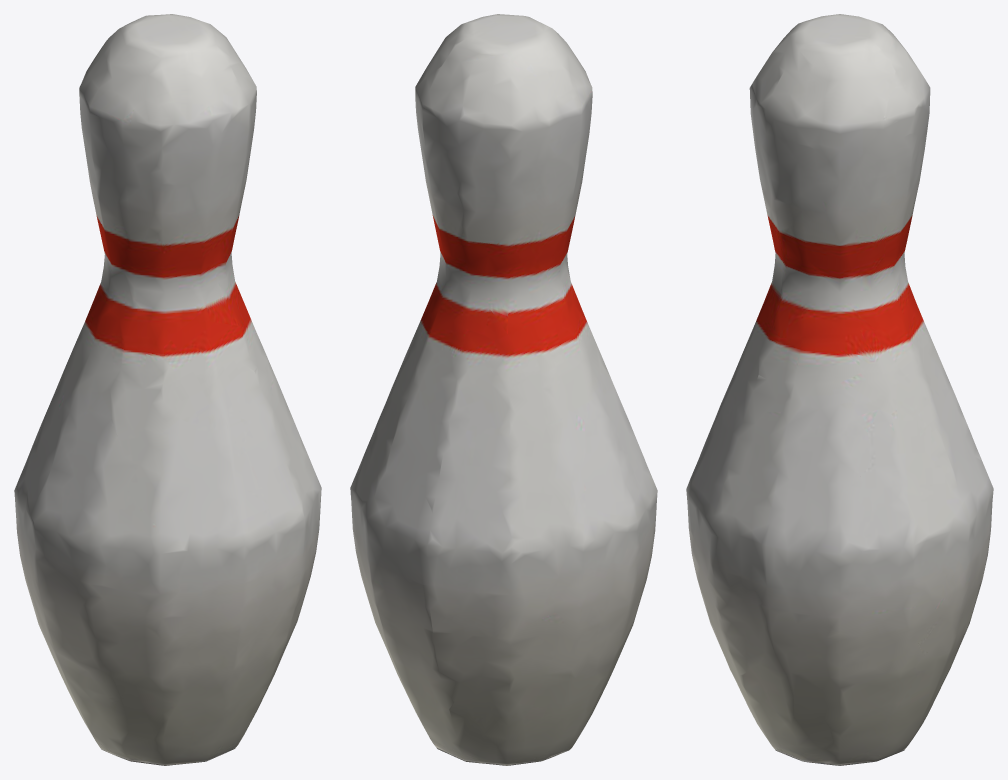
The model's file is bowling-pin.glb.
3 views of the same model, side by side, from view 1: azimuth 30°, elevation 25°; view 2: azimuth 150°, elevation 25°; view 3: azimuth 270°, elevation 25° (orthographic).
Parts seen in each view (by area): view 1: tripo_node_91449e65-2cbc-4730-bcea-206a1384f255; view 2: tripo_node_91449e65-2cbc-4730-bcea-206a1384f255; view 3: tripo_node_91449e65-2cbc-4730-bcea-206a1384f255.
Boxes of the visible parts, x1,y1,x2,y2 form: tripo_node_91449e65-2cbc-4730-bcea-206a1384f255: (14, 14, 321, 765); tripo_node_91449e65-2cbc-4730-bcea-206a1384f255: (350, 14, 657, 765); tripo_node_91449e65-2cbc-4730-bcea-206a1384f255: (686, 14, 993, 765).
Size of the model in its own units: 0.3977 by 1 by 0.3958.
Materials: 1 (1 with a texture image).
